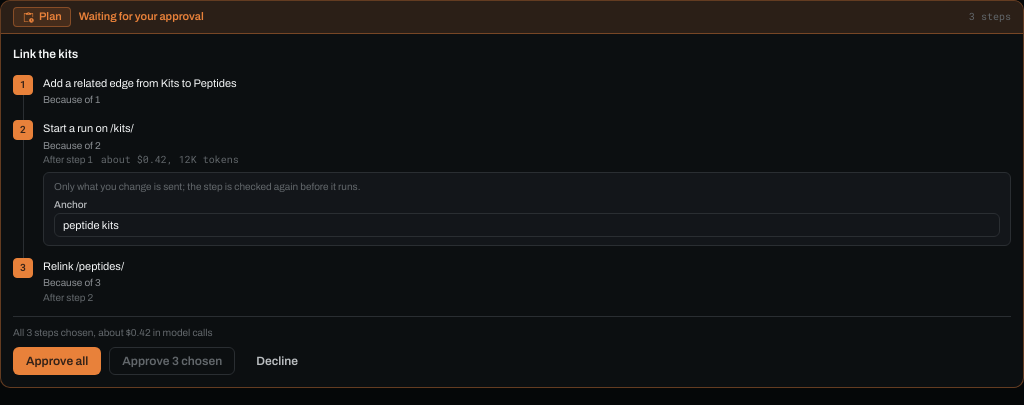
Test case: a proposed plan › unticks every step that waits on an unticked one before anything is sent
The width and height of the screenshot is (1024, 405).
Click the checkbox labelled "1". click: (23, 84)
box: [13, 74, 33, 94]
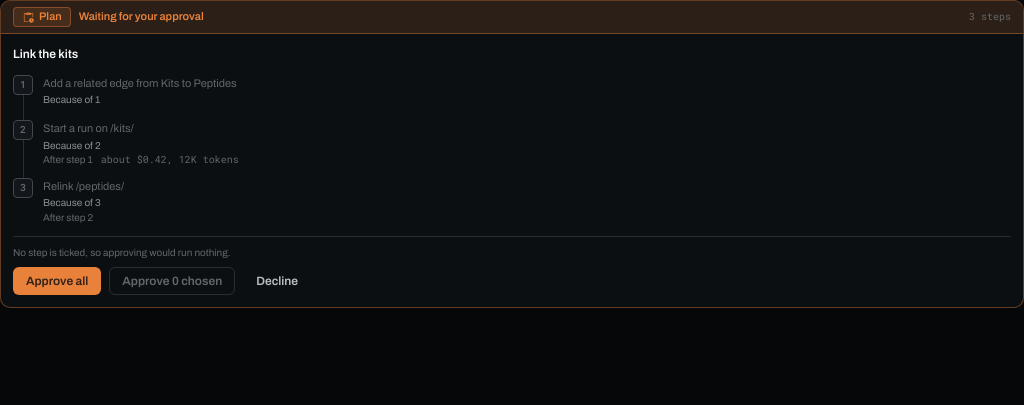
Check: the text "No step is ticked, so approving would run nothing." is shown, box [13, 247, 231, 258]
